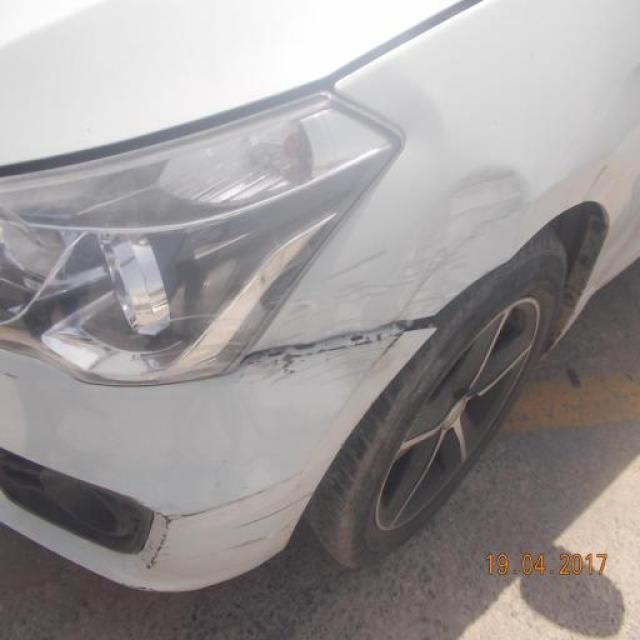dent: (240, 248, 466, 380), (448, 145, 540, 277)
scratch: (142, 472, 301, 572), (180, 519, 297, 561), (232, 490, 314, 531)
